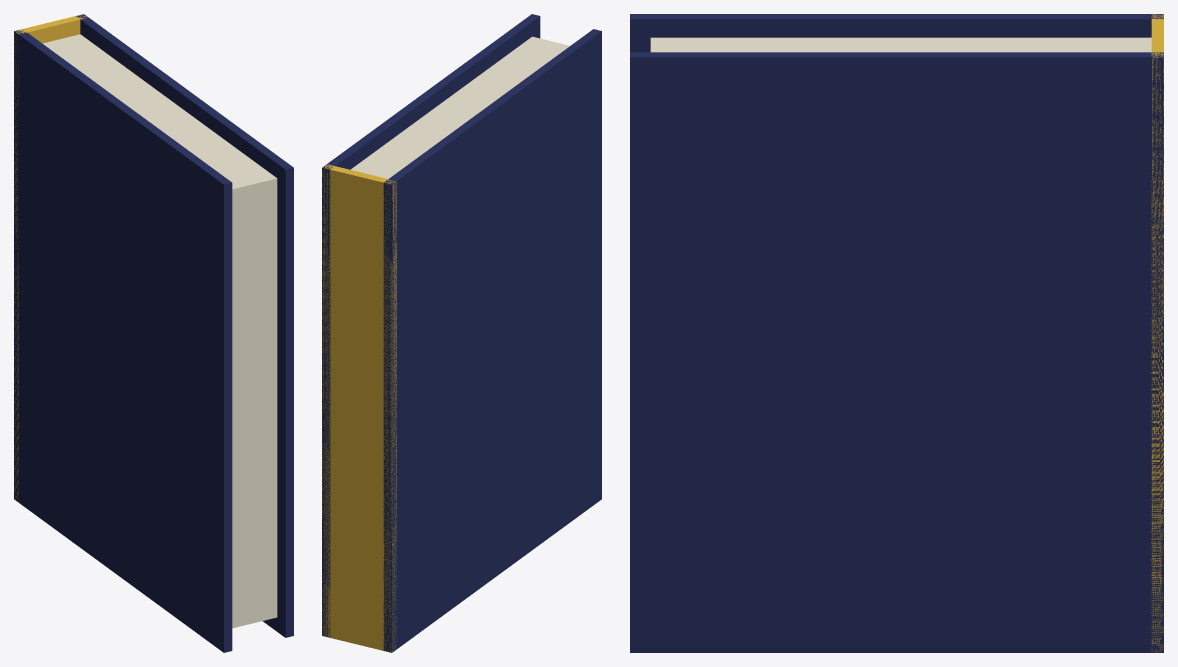
Rendered from hand-healer.glb.
3 views of the same model, side by side, from view 1: azimuth 30°, elevation 25°; view 2: azimuth 150°, elevation 25°; view 3: azimuth 270°, elevation 25° (orthographic). The views are drawn at different scales.
Visible parts, largest first — view 1: hand-healer.002; view 2: hand-healer.002; view 3: hand-healer.002.
Part boxes in pixels (x1,y1,x2,y2): hand-healer.002: (14, 14, 293, 652); hand-healer.002: (322, 14, 601, 652); hand-healer.002: (630, 14, 1163, 652).
Size of the model in its own units: 0.05 by 0.32 by 0.26.
1 material, 1 textured.
